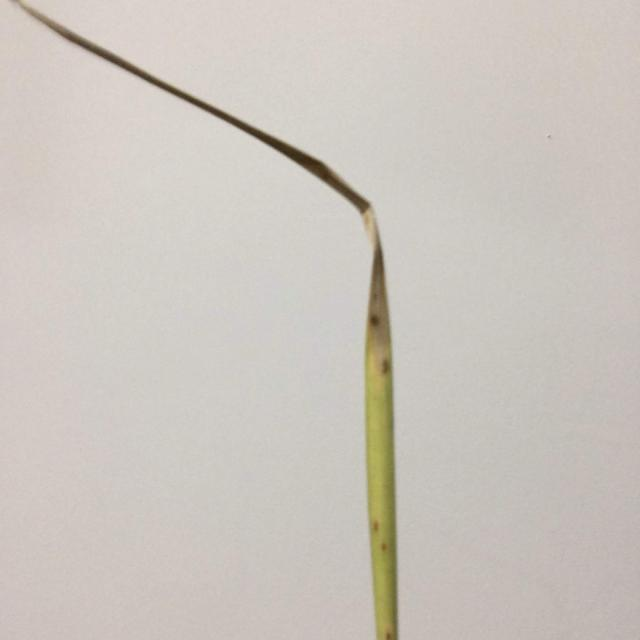brownspots: (369, 510, 392, 558), (366, 309, 384, 336), (380, 353, 393, 381), (379, 624, 397, 640)
